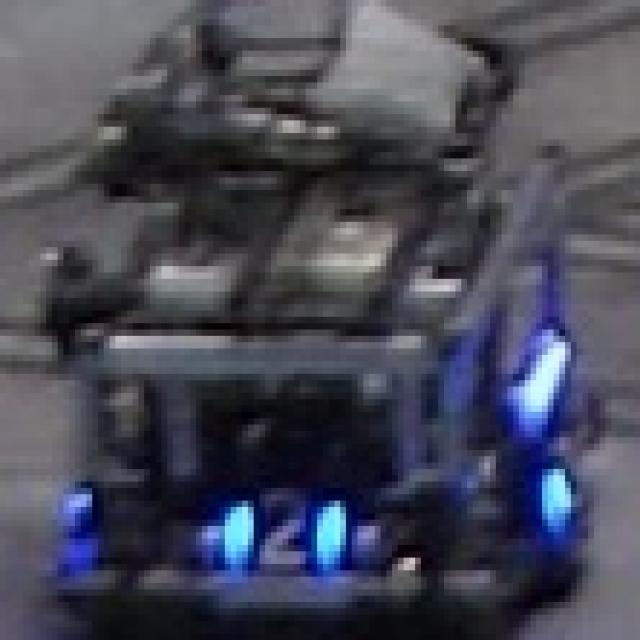B2: (219, 475, 352, 583)
